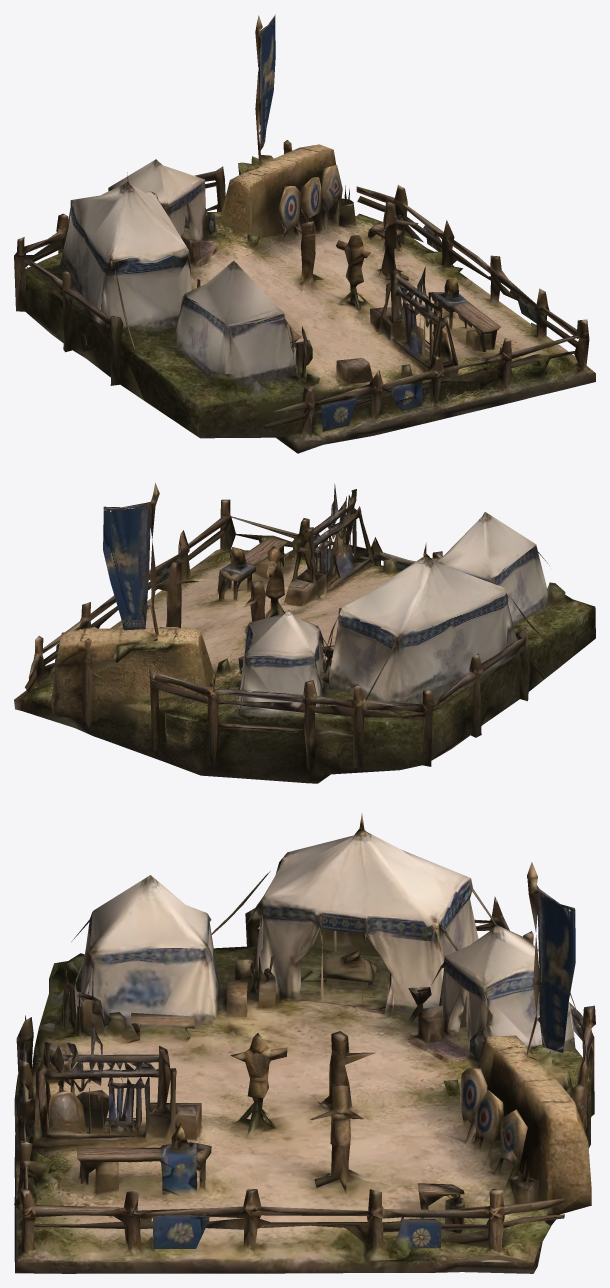
File: camp_1.glb
The picture shows the model from 3 angles, top to bottom: view 1: azimuth 30°, elevation 25°; view 2: azimuth 150°, elevation 25°; view 3: azimuth 270°, elevation 25°; orthographic projection. The views are drawn at different scales.
Parts seen in each view (by area): view 1: tripo_node_466192e8-f590-4f98-bfc3-2d328f04bf50; view 2: tripo_node_466192e8-f590-4f98-bfc3-2d328f04bf50; view 3: tripo_node_466192e8-f590-4f98-bfc3-2d328f04bf50.
Part boxes in pixels (x1,y1,x2,y2): tripo_node_466192e8-f590-4f98-bfc3-2d328f04bf50: (14,14,595,453); tripo_node_466192e8-f590-4f98-bfc3-2d328f04bf50: (14,483,595,783); tripo_node_466192e8-f590-4f98-bfc3-2d328f04bf50: (14,813,595,1273).
Size of the model in its own units: 0.9802 by 0.5969 by 0.9622.
1 material, 1 textured.
